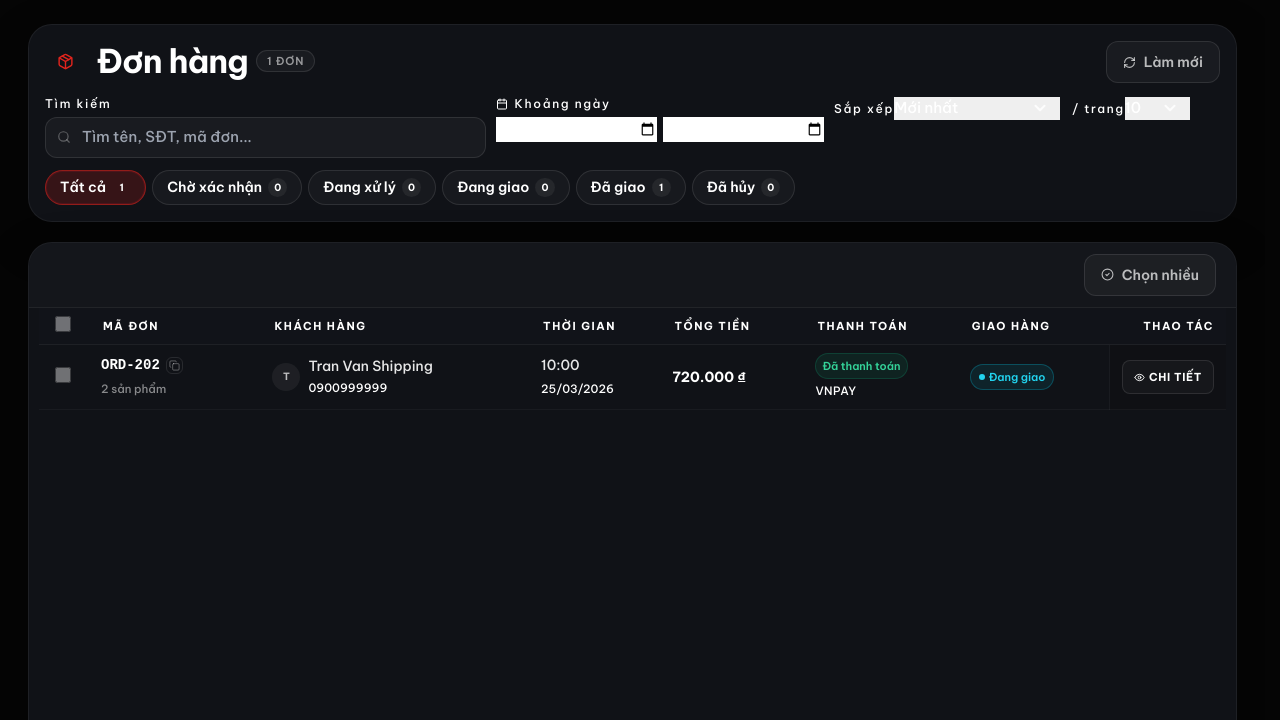
Test case: Admin Orders page › guides shipping selections to the manual verification flow instead of exposing bulk delivered
Click the checkbox named "Chọn đơn ORD-202". click: (63, 374)
box: [55,366,71,382]
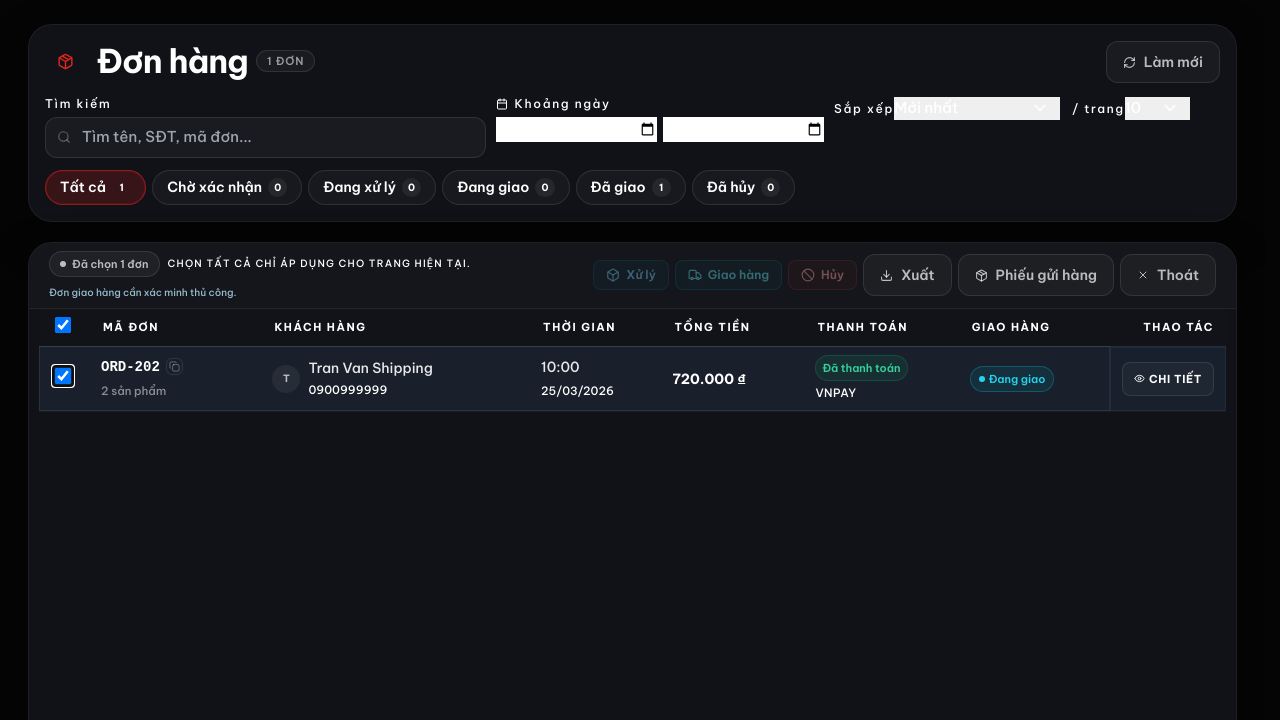
Now the text "Đơn giao hàng cần xác minh thủ công." is shown, box [49,285,236,300]
